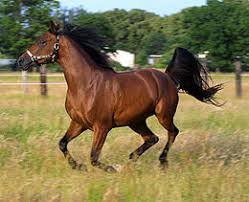horse: (17, 19, 228, 166)
